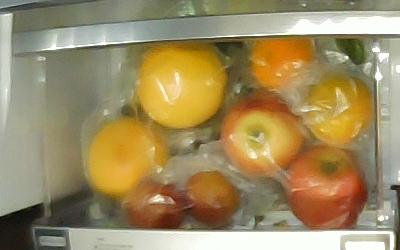apple_vinyl: (283, 146, 367, 230), (220, 94, 302, 177)
grapefruit_vinyl: (136, 44, 226, 129), (89, 119, 168, 195)
persimmon_vinyl: (308, 74, 372, 145), (250, 37, 314, 90)
prune_vinyl: (184, 171, 241, 225), (126, 183, 184, 231)
